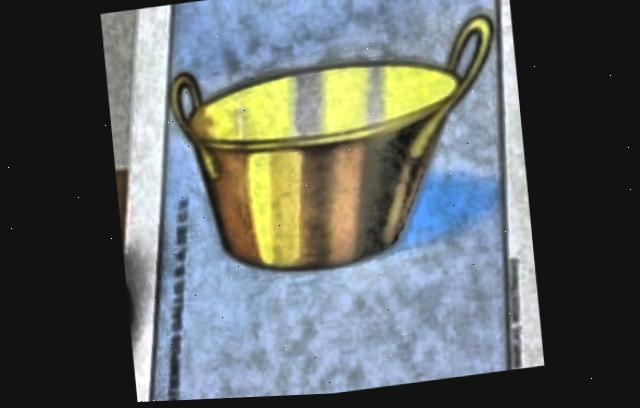El Cazo: (149, 0, 512, 403)
